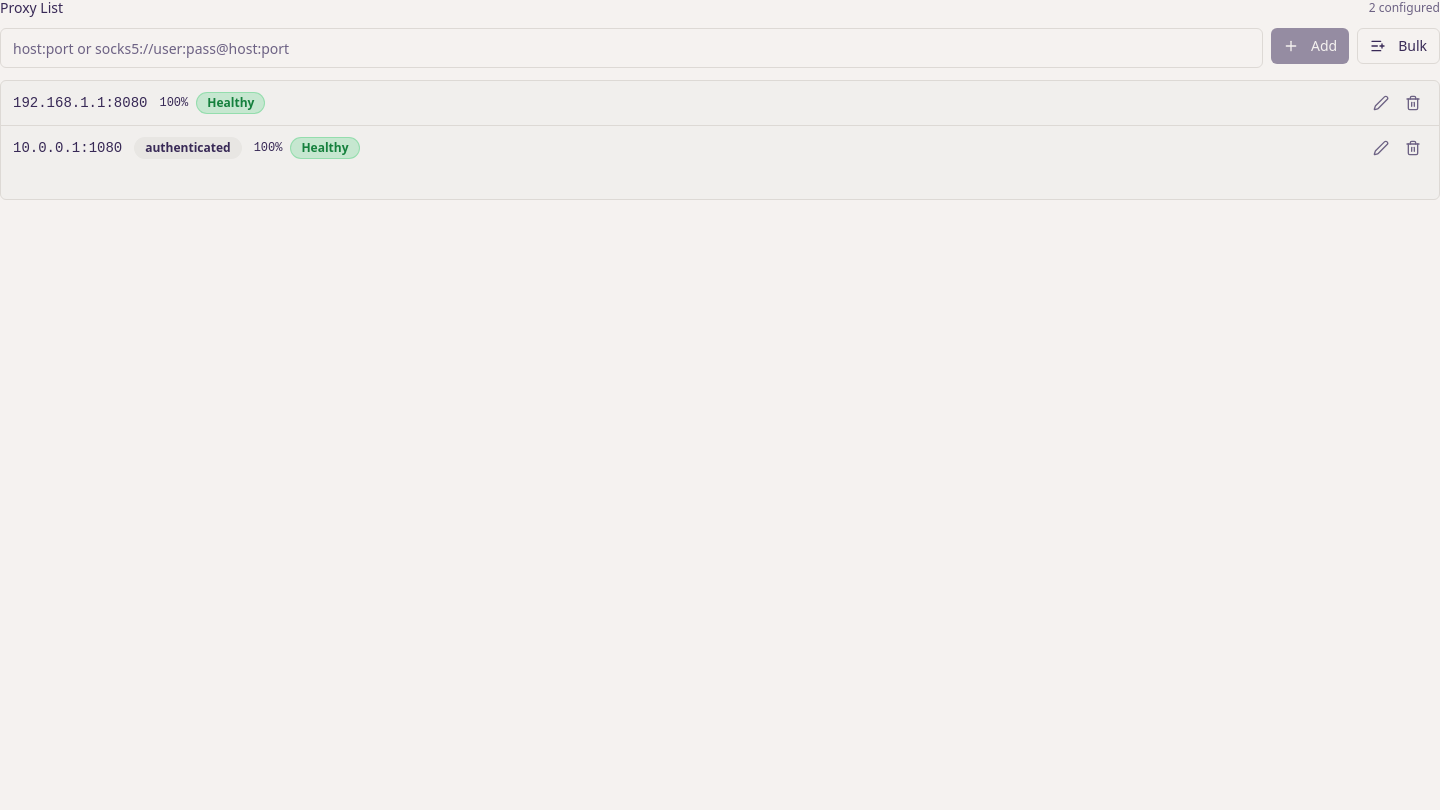
ProxyList › delete proxy › cancels delete when cancel is clicked
Click the button named "delete" in the row of "8080": [1413, 103] box [1399, 89, 1427, 117]
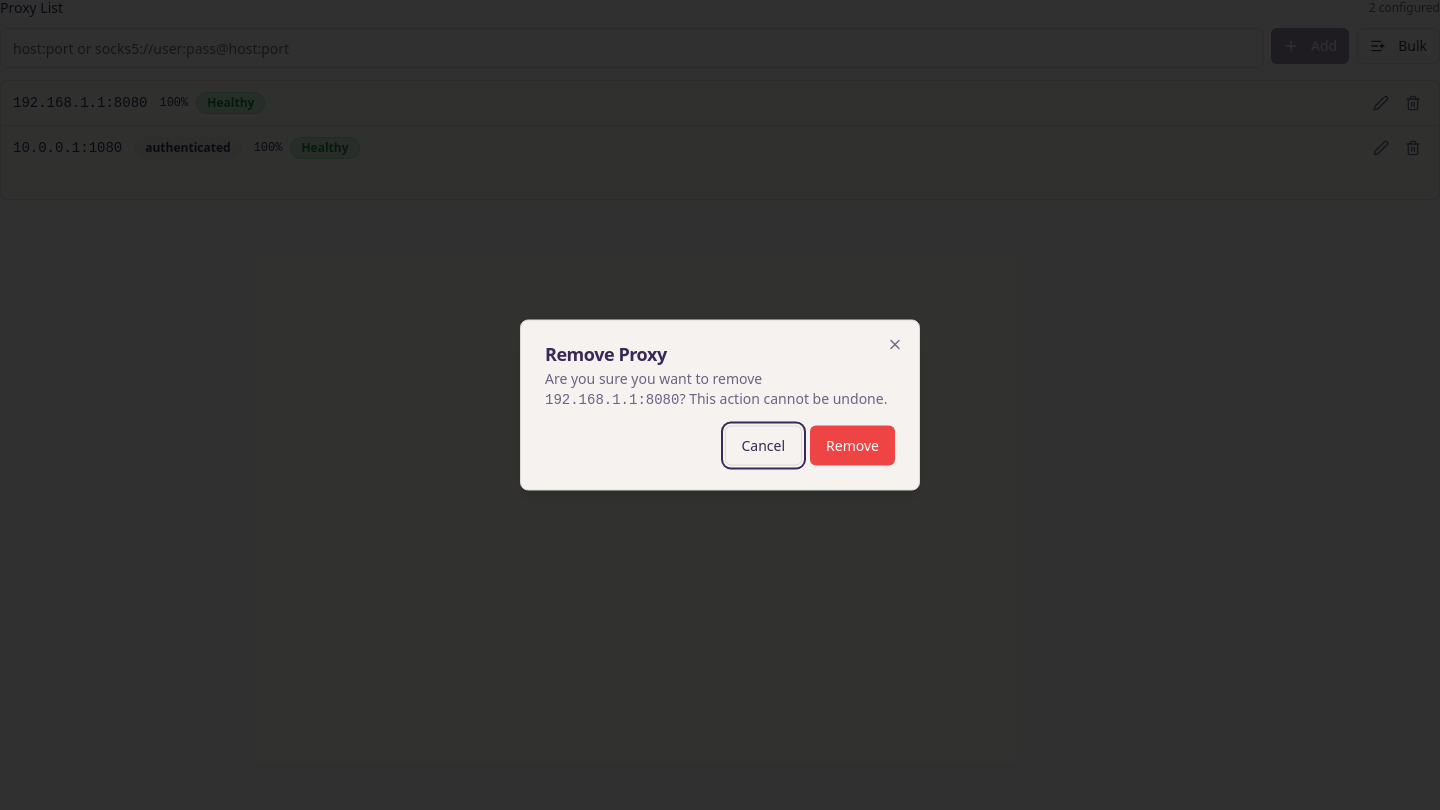
Result: the heading "Remove Proxy" is shown at [545, 342, 667, 366]
Click the button "Cancel": [763, 446] box [724, 426, 802, 466]
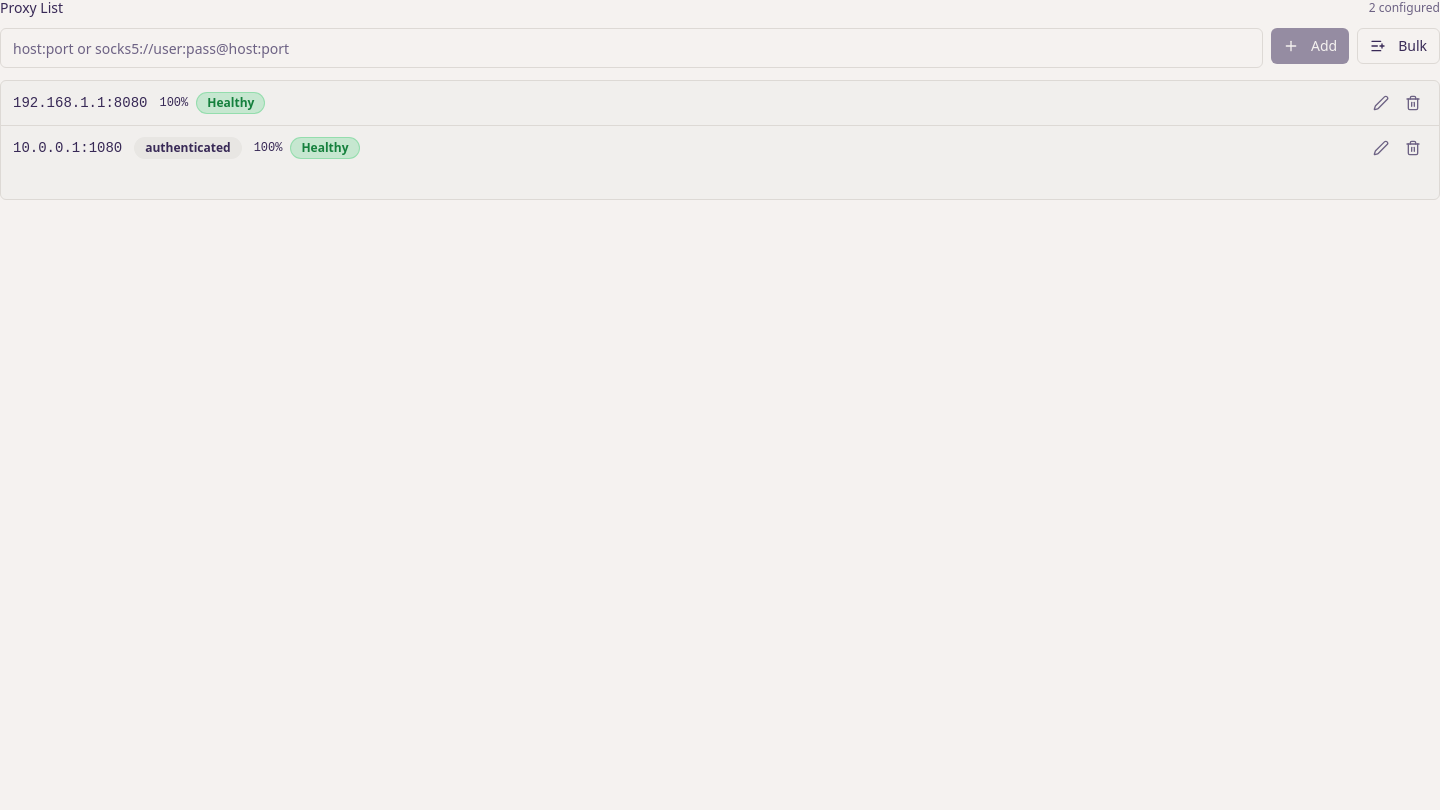
Result: the heading "Remove Proxy" is gone
